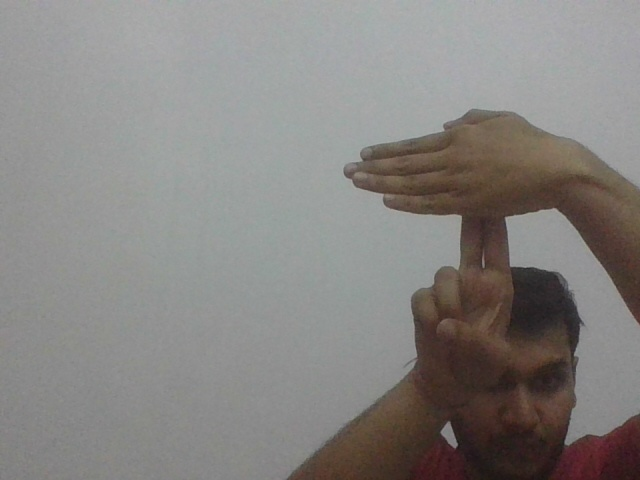N: (340, 107, 548, 267)
